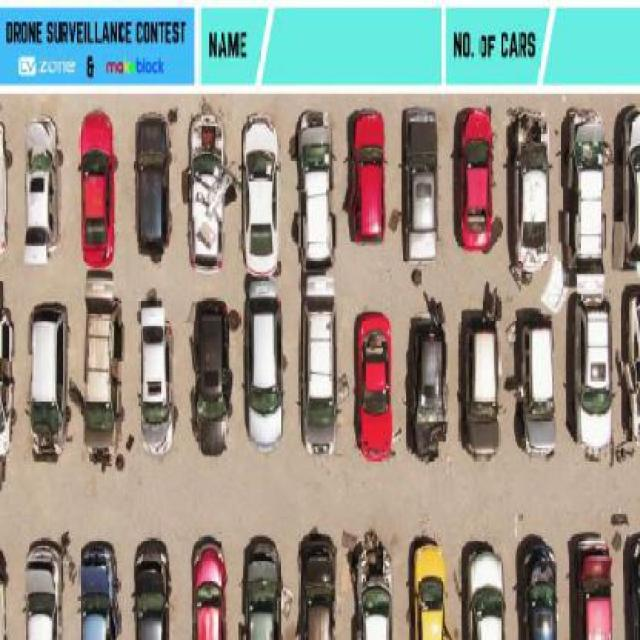car: (564, 287, 614, 452), (510, 110, 555, 279), (450, 106, 501, 255), (348, 312, 397, 462), (78, 278, 119, 457), (301, 272, 341, 453), (245, 277, 287, 449), (189, 292, 233, 456), (26, 298, 71, 458), (74, 107, 118, 267), (564, 109, 606, 274), (134, 296, 178, 452), (298, 109, 339, 273), (242, 117, 283, 277), (461, 314, 505, 461), (342, 104, 388, 242), (408, 308, 450, 459), (185, 113, 224, 273), (134, 112, 173, 265), (519, 312, 559, 460), (403, 105, 439, 269), (20, 116, 57, 264), (295, 526, 340, 640), (568, 531, 614, 639), (516, 530, 561, 638), (20, 534, 65, 638), (74, 536, 119, 639), (128, 536, 172, 639), (242, 533, 283, 639), (463, 543, 505, 639), (354, 537, 393, 639), (191, 537, 229, 639), (617, 103, 640, 270), (408, 538, 446, 639), (0, 277, 17, 450), (623, 285, 640, 457), (0, 116, 14, 255), (624, 529, 640, 639), (0, 543, 11, 640)
